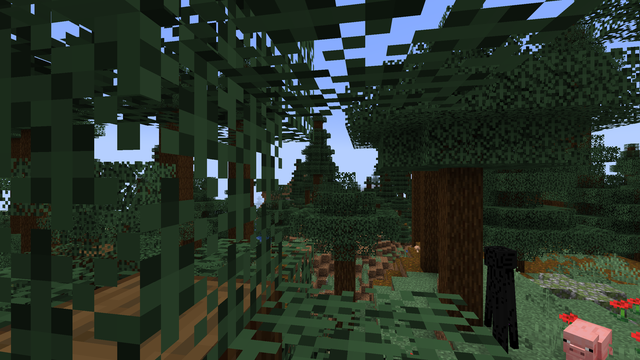cochons: (554, 317, 627, 359)
endermens: (482, 242, 519, 356)
